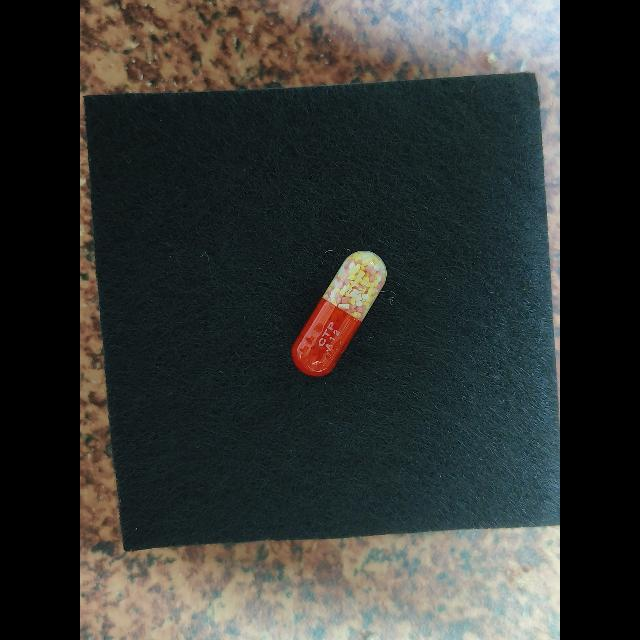Intact Capsule: (291, 250, 387, 376)
